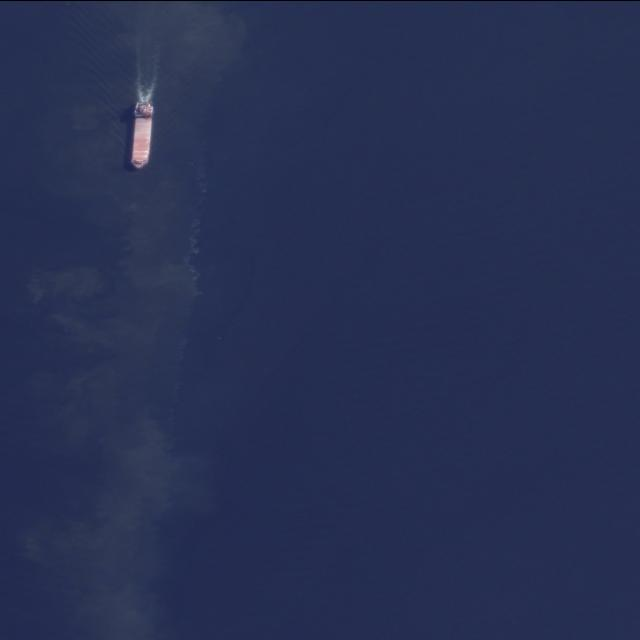ship: (130, 100, 156, 168)
